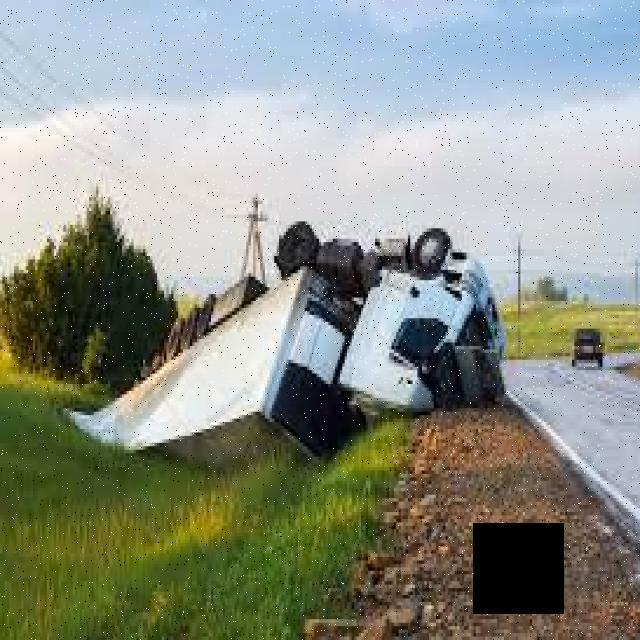accident: (86, 211, 513, 471)
